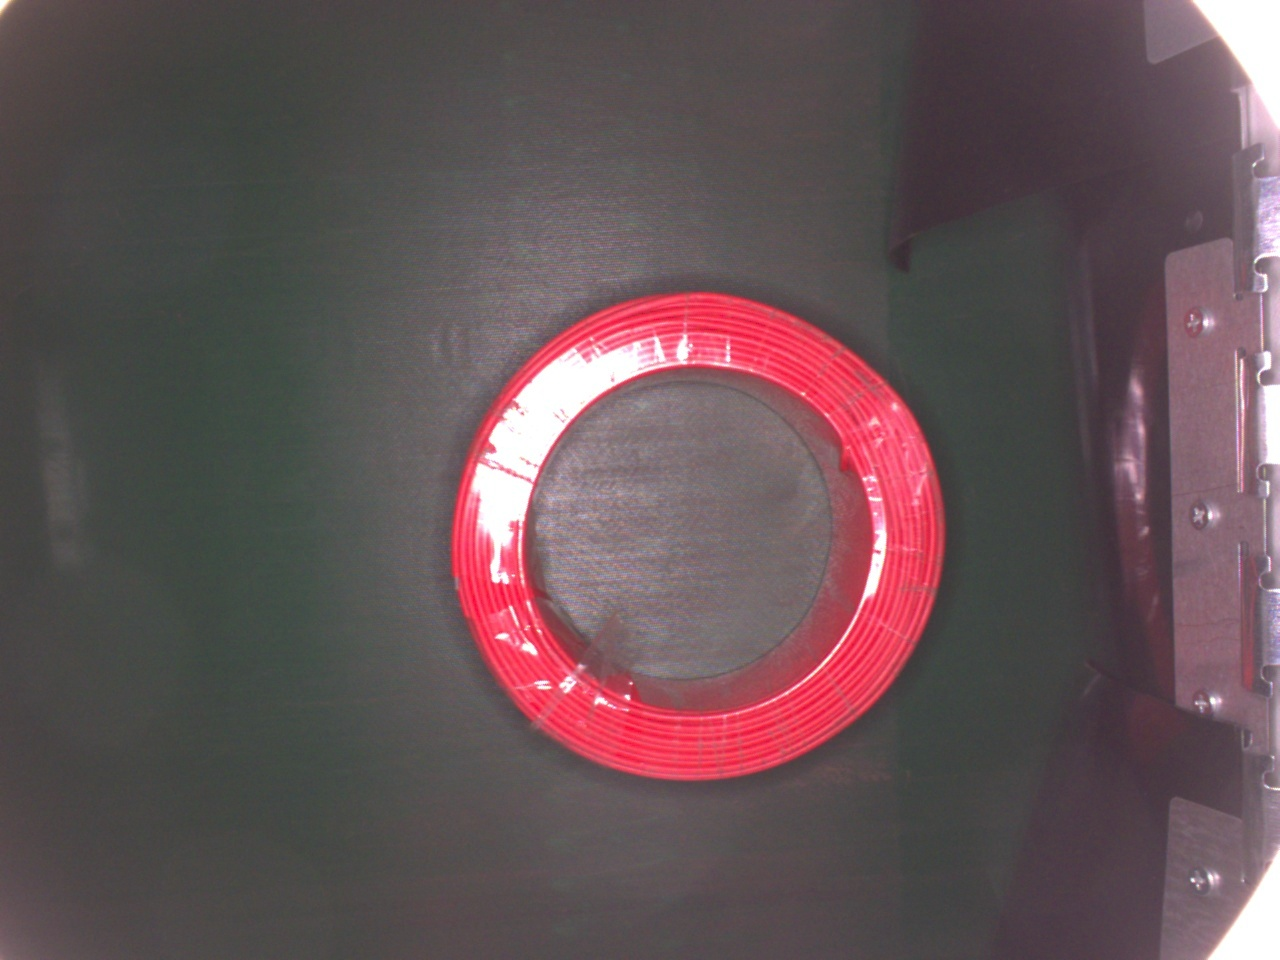red: (447, 291, 948, 785)
